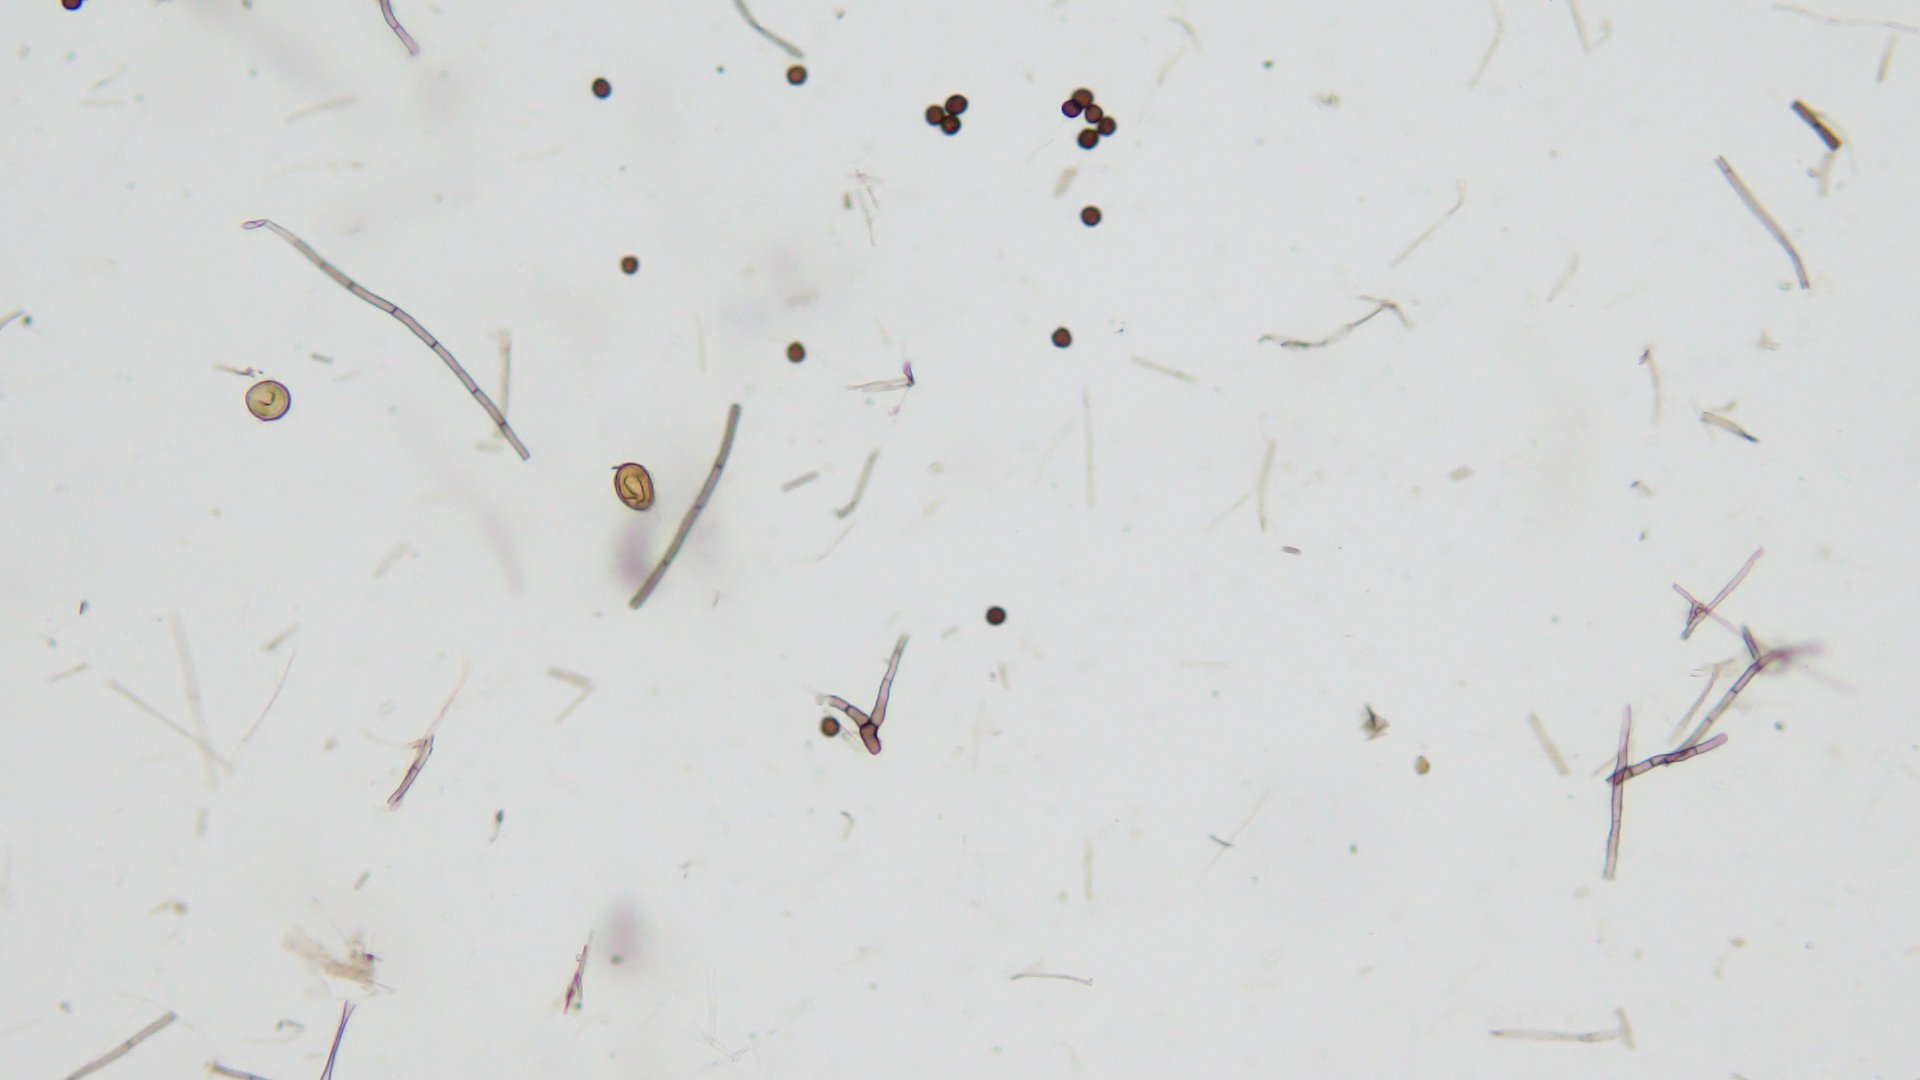shs_spore: (1054, 324, 1075, 351), (945, 92, 968, 115), (589, 78, 612, 99), (985, 605, 1007, 626), (786, 342, 806, 365), (1083, 102, 1104, 123), (924, 104, 944, 127), (939, 115, 961, 135), (819, 717, 843, 736), (1077, 128, 1098, 148), (1083, 207, 1104, 227), (1069, 88, 1091, 107), (618, 258, 641, 276), (789, 65, 807, 84), (1062, 100, 1080, 117), (1101, 119, 1116, 136)
xb_spore: (615, 459, 659, 510), (247, 378, 290, 422)
